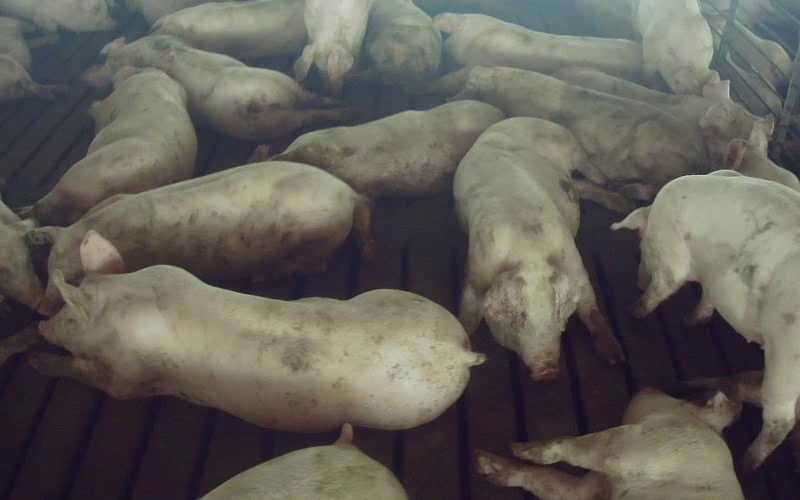pig: (31, 232, 483, 431), (613, 171, 799, 466), (31, 161, 354, 314), (461, 66, 706, 199), (478, 388, 742, 499), (84, 35, 349, 139), (29, 67, 196, 224), (275, 101, 503, 194), (418, 13, 641, 93), (634, 0, 729, 98), (152, 0, 306, 59), (294, 0, 371, 93), (365, 0, 441, 79)
